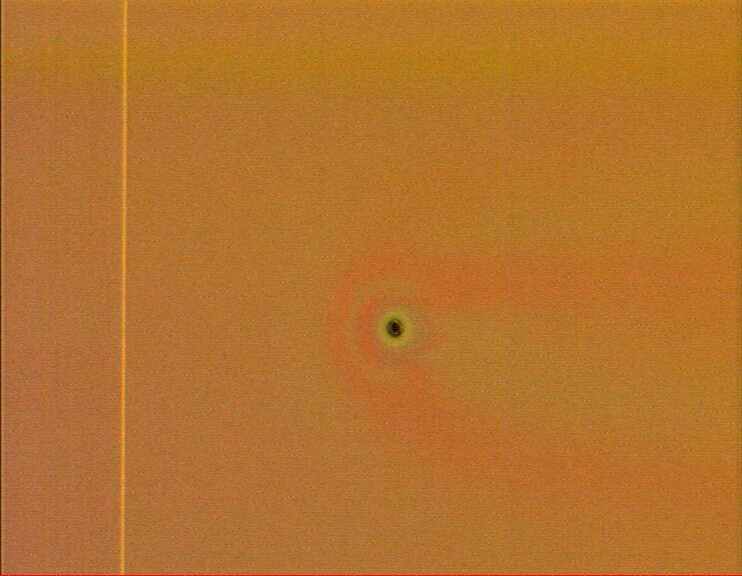PIQ PARTICLE: (374, 308, 418, 352)
